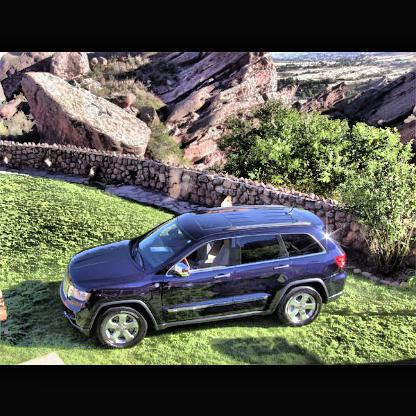Jeep Grand Cherokee SUV 2012: (62, 205, 347, 350)
